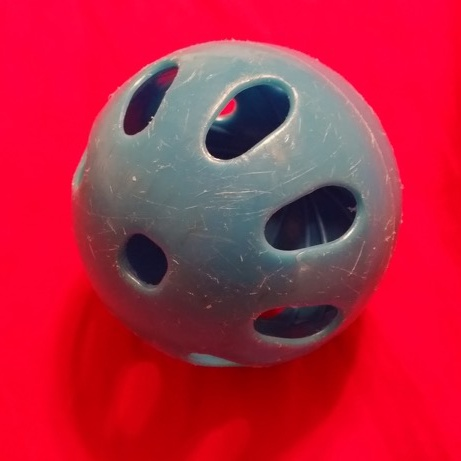blueball: (66, 35, 409, 374)
